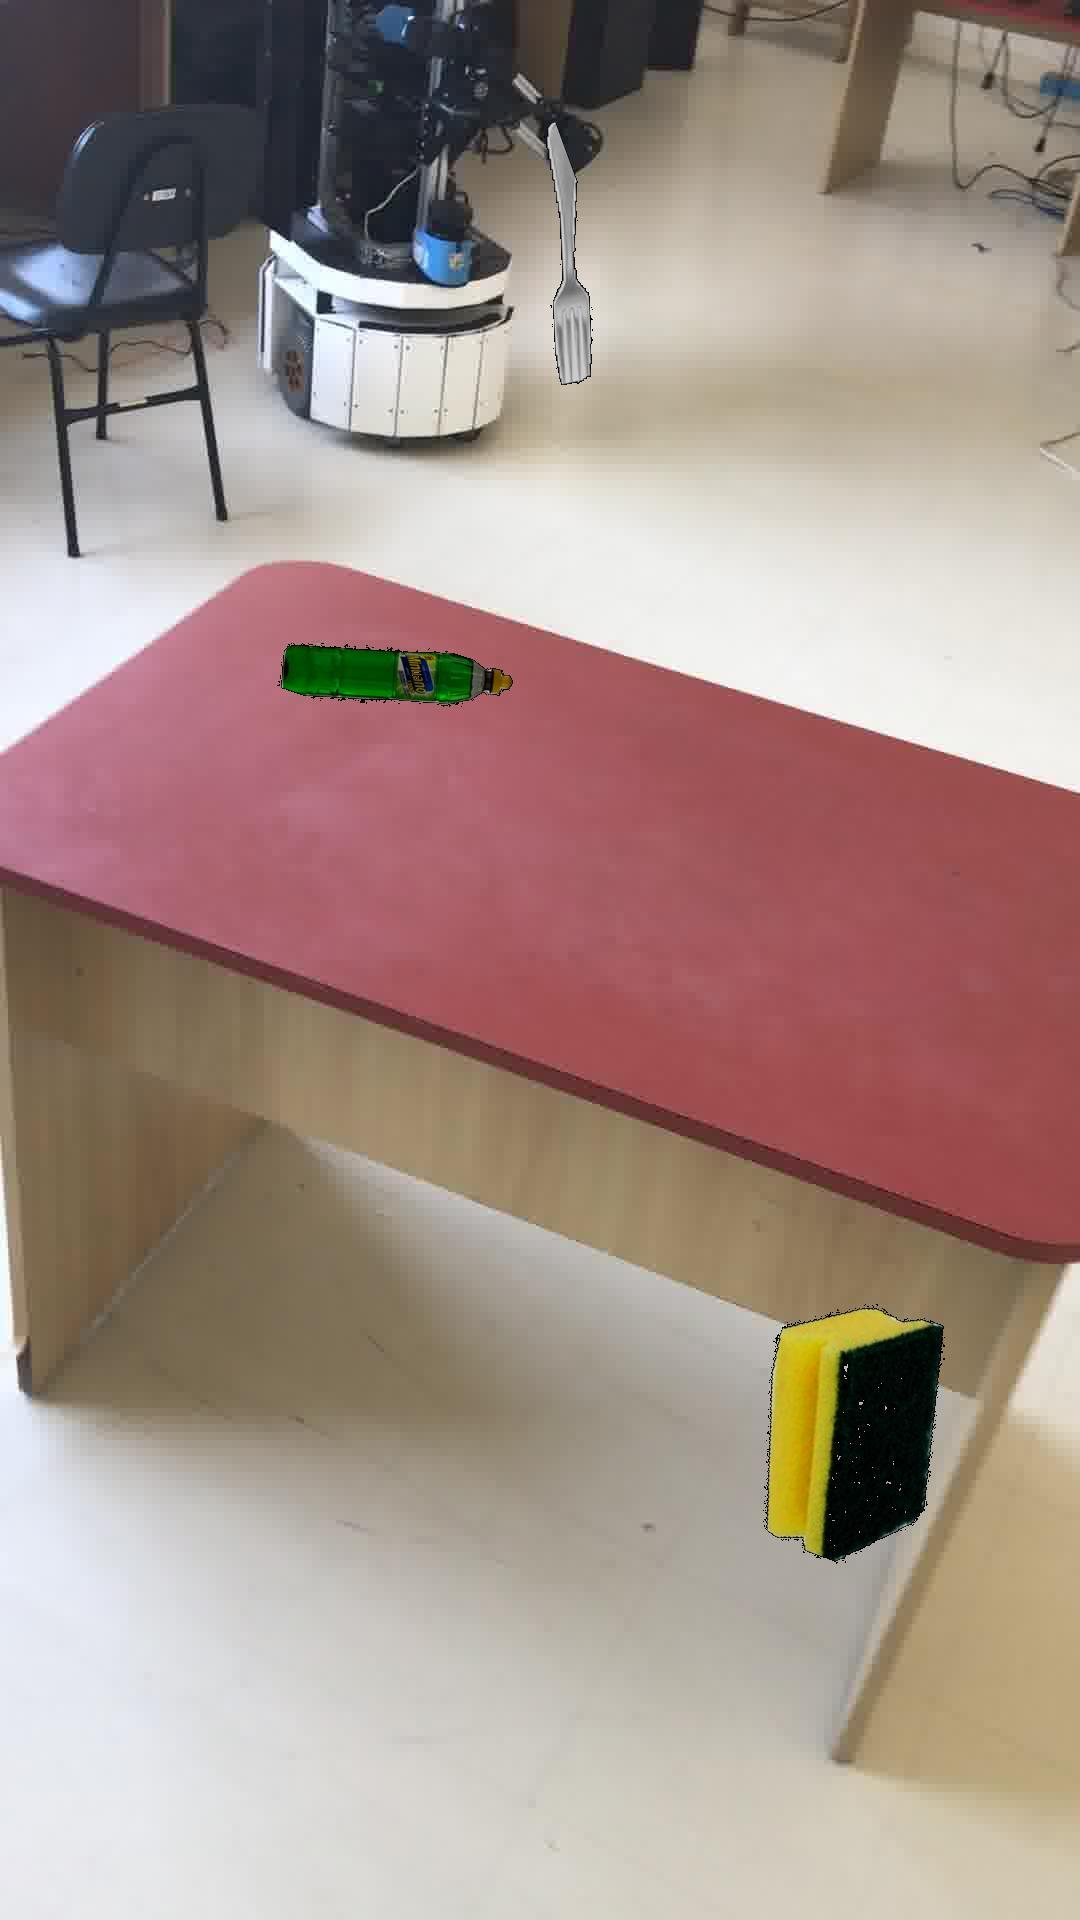cleaner: (280, 642, 512, 705)
fork: (545, 120, 592, 384)
sponge: (764, 1307, 943, 1560)
